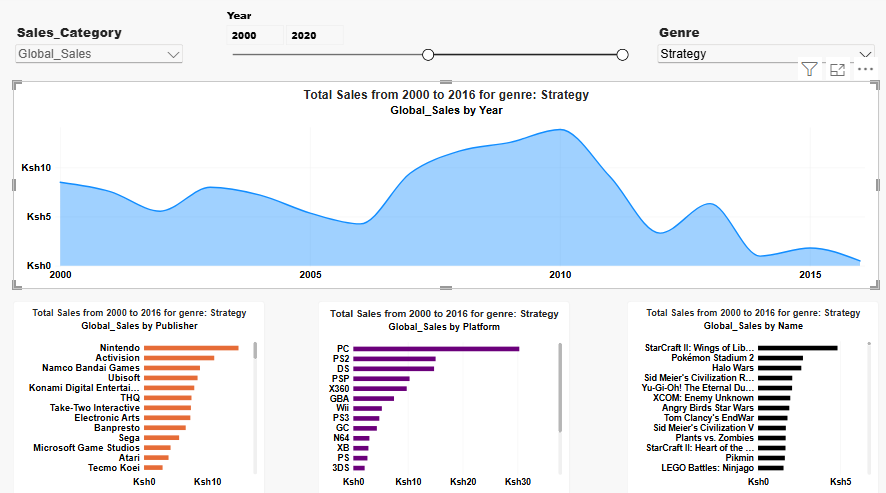

This screenshot's page, from the dashboard's own definition file:
{"tool":"powerbi","page":{"name":"Page 1","canvas":[1920,1080],"ordinal":0},"visuals":[{"type":"stackedAreaChart","fields":{"Category":["video_games_sales.Year"],"Y":["video_games_sales.sum_global_sales"]},"box":[28.1,183.6,1870.6,449.3],"z":0},{"type":"slicer","fields":{"Values":["video_games_sales.Year"]},"box":[481.7,25.9,879.1,157.7],"z":1000},{"type":"slicer","fields":{"Values":["video_games_sales.Genre"]},"box":[1410.5,60.5,488.8,123.5],"z":1001},{"type":"slicer","fields":{"Values":["Sales_Category.Sales_Category"]},"box":[28.1,60.5,371.5,123.1],"z":1002},{"type":"clusteredBarChart","fields":{"Category":["video_games_sales.Publisher"],"Y":["video_games_sales.sum_global_sales"]},"box":[28.1,658.8,544.3,421.2],"z":1003},{"type":"clusteredBarChart","fields":{"Category":["video_games_sales.Platform"],"Y":["video_games_sales.sum_global_sales"]},"box":[686.9,658.8,544.3,421.2],"z":1004},{"type":"clusteredBarChart","fields":{"Category":["video_games_sales.Name"],"Y":["video_games_sales.sum_global_sales"]},"box":[1354.3,658.8,544.3,421.2],"z":1005}]}

Visuals, with their boxes in screenshot pixels (x1, y1, x2, y2), scaled from the page's 1920x1080 canvas onto the 886x493 screenshot:
stackedAreaChart - video_games_sales.Year x video_games_sales.sum_global_sales: left=13, top=84, right=876, bottom=289
slicer - video_games_sales.Year: left=222, top=12, right=628, bottom=84
slicer - video_games_sales.Genre: left=651, top=28, right=876, bottom=84
slicer - Sales_Category.Sales_Category: left=13, top=28, right=184, bottom=84
clusteredBarChart - video_games_sales.Publisher x video_games_sales.sum_global_sales: left=13, top=301, right=264, bottom=492
clusteredBarChart - video_games_sales.Platform x video_games_sales.sum_global_sales: left=317, top=301, right=568, bottom=492
clusteredBarChart - video_games_sales.Name x video_games_sales.sum_global_sales: left=625, top=301, right=876, bottom=492
